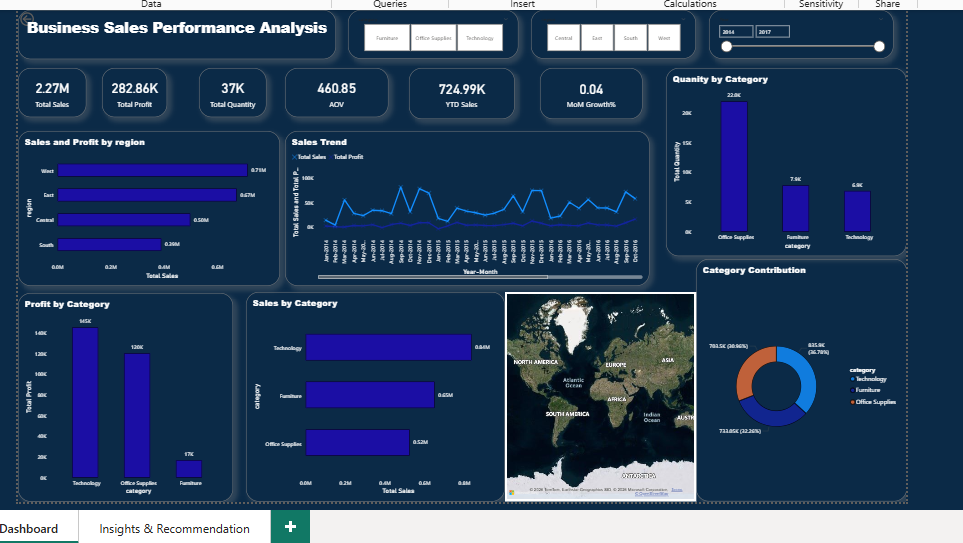

This screenshot's page, from the dashboard's own definition file:
{"tool":"powerbi","page":{"name":"Dashboard","canvas":[1950,1080],"ordinal":0},"visuals":[{"type":"actionButton","box":[0,0,100,40],"z":0},{"type":"card","fields":{"Values":["Superstore(Sales).Total Sales"]},"box":[0,128.3,150,108.3],"z":1000},{"type":"card","fields":{"Values":["Superstore(Sales).Total Profit"]},"box":[185,128.3,143.3,108.3],"z":2000},{"type":"card","fields":{"Values":["Superstore(Sales).Total Quantity"]},"box":[396.7,128.3,148.3,108.3],"z":3000},{"type":"card","fields":{"Values":["Superstore(Sales).AOV(average order value)"]},"box":[585,128.3,226.7,108.3],"z":4000},{"type":"card","fields":{"Values":["Calendar.YTD Sales"]},"box":[858.3,128.3,231.7,111.7],"z":5000},{"type":"card","fields":{"Values":["Calendar.MoM Growth%"]},"box":[1146.7,128.3,225,111.7],"z":6000},{"type":"lineChart","title":"Sales Trend","fields":{"Y":["Superstore(Sales).Total Sales","Superstore(Sales).Total Profit"],"Category":["Calendar.Year-Month"]},"box":[585,265,800,340],"z":7000},{"type":"barChart","title":"Sales by Category","fields":{"Y":["Superstore(Sales).Total Sales"],"Category":["Superstore(Sales).category Hierarchy.category","Superstore(Sales).category Hierarchy.sub_category","Superstore(Sales).category Hierarchy.product_name"]},"box":[500,620,567.5,460],"z":8000},{"type":"columnChart","title":"Profit by Category","fields":{"Category":["Superstore(Sales).category"],"Y":["Superstore(Sales).Total Profit"]},"box":[0,620.9,472.1,458.1],"z":9000},{"type":"barChart","title":"Sales and Profit by region","fields":{"Category":["Superstore(Sales).region"],"Y":["Superstore(Sales).Total Sales"]},"box":[0,265,575,340],"z":10000},{"type":"donutChart","title":"Category Contribution","fields":{"Category":["Superstore(Sales).category Hierarchy.category"],"Y":["Superstore(Sales).Total Sales"]},"box":[1488,547,463,532],"z":11000},{"type":"columnChart","title":"Quanity by Category","fields":{"Category":["Superstore(Sales).category"],"Y":["Superstore(Sales).Total Quantity"]},"box":[1422.5,127.5,527.5,412.5],"z":12000},{"type":"slicer","fields":{"Values":["Superstore(Sales).region"]},"box":[1126.2,0,362.3,106.6],"z":13000},{"type":"slicer","fields":{"Values":["Superstore(Sales).category Hierarchy.category"]},"box":[724.6,0,373.8,106.6],"z":14000},{"type":"slicer","fields":{"Values":["Calendar.Year"]},"box":[1516.4,0,404.9,106.6],"z":15000},{"type":"filledMap","fields":{"Series":["Superstore(Sales).sales"],"Category":["Superstore(Sales).region","Superstore(Sales).state","Superstore(Sales).city"]},"box":[1068.3,620,420,460],"z":16000},{"type":"textbox","box":[0,0,697.5,107.5],"z":17000}]}

Visuals, with their boxes on the page's 1950x1080 design canvas (x1, y1, x2, y2). These are canvas units, not pixel positions in the 963x543 screenshot, which may show the page scaled, cropped or inside an application window:
actionButton: [0, 0, 100, 40]
card - Superstore(Sales).Total Sales: [0, 128, 150, 237]
card - Superstore(Sales).Total Profit: [185, 128, 328, 237]
card - Superstore(Sales).Total Quantity: [397, 128, 545, 237]
card - Superstore(Sales).AOV(average order value): [585, 128, 812, 237]
card - Calendar.YTD Sales: [858, 128, 1090, 240]
card - Calendar.MoM Growth%: [1147, 128, 1372, 240]
"Sales Trend" lineChart: [585, 265, 1385, 605]
"Sales by Category" barChart: [500, 620, 1068, 1080]
"Profit by Category" columnChart: [0, 621, 472, 1079]
"Sales and Profit by region" barChart: [0, 265, 575, 605]
"Category Contribution" donutChart: [1488, 547, 1951, 1079]
"Quanity by Category" columnChart: [1422, 128, 1950, 540]
slicer - Superstore(Sales).region: [1126, 0, 1488, 107]
slicer - Superstore(Sales).category Hierarchy.category: [725, 0, 1098, 107]
slicer - Calendar.Year: [1516, 0, 1921, 107]
filledMap - Superstore(Sales).sales x Superstore(Sales).region: [1068, 620, 1488, 1080]
textbox: [0, 0, 698, 108]
